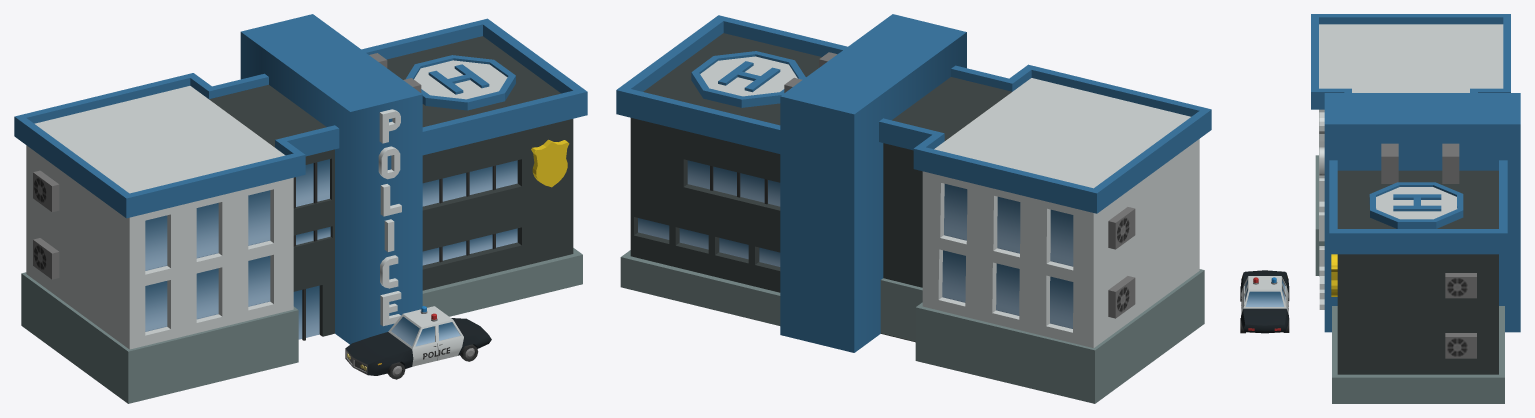
File: City_Police_Station.fbx
3 views of the same model, side by side, from view 1: azimuth 30°, elevation 25°; view 2: azimuth 150°, elevation 25°; view 3: azimuth 270°, elevation 25° (orthographic). The views are drawn at different scales.
Parts seen in each view (by area): view 1: City_Police_Station; view 2: City_Police_Station; view 3: City_Police_Station.
Boxes of the visible parts, x1=… form: City_Police_Station: x1=14, y1=14, x2=587, y2=403; City_Police_Station: x1=616, y1=14, x2=1211, y2=403; City_Police_Station: x1=1240, y1=14, x2=1520, y2=403.
Bounding box in the file's own units: 565 × 267 × 326.
